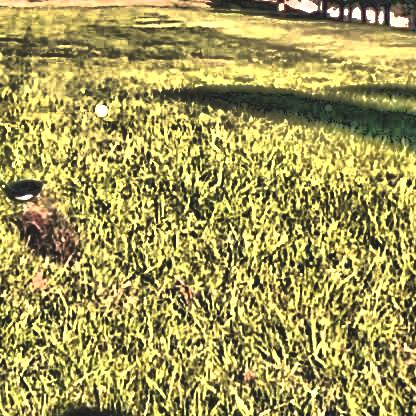golfball: (92, 99, 106, 114)
